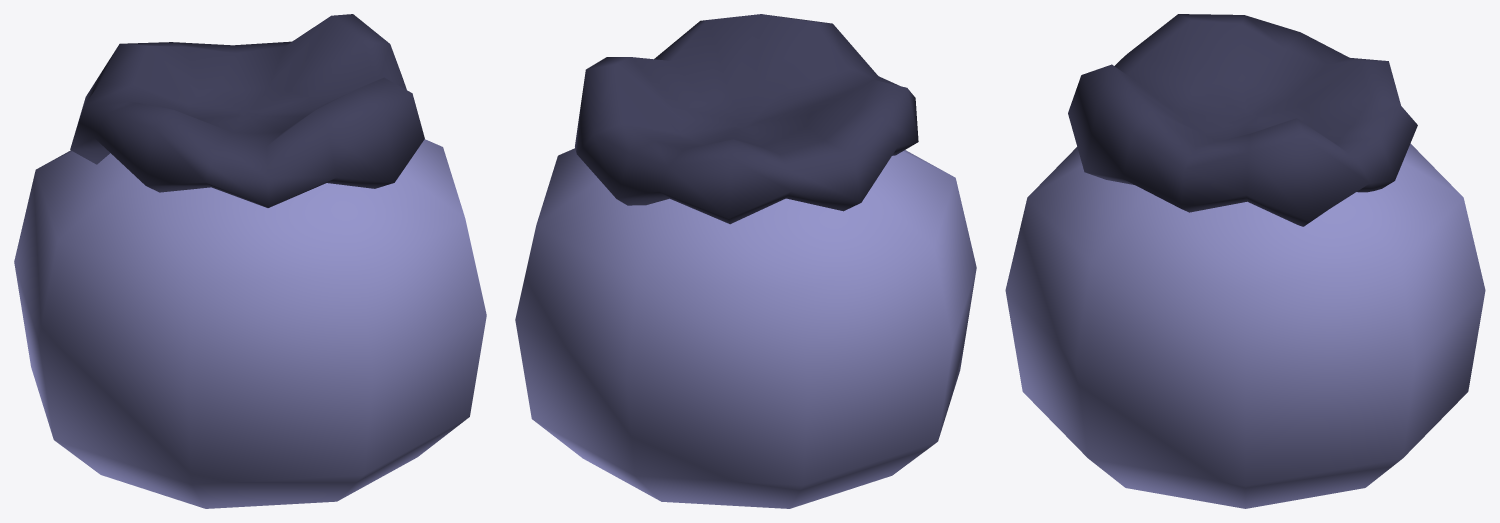
Rendered from Coral_26.fbx.
3 renders of one model, left to right at view 1: azimuth 30°, elevation 25°; view 2: azimuth 150°, elevation 25°; view 3: azimuth 270°, elevation 25°, orthographic. The views are drawn at different scales.
Parts seen in each view (by area): view 1: Coral_26; view 2: Coral_26; view 3: Coral_26.
Boxes of the visible parts, x1,y1,x2,y2 form: Coral_26: (14, 14, 486, 508); Coral_26: (515, 14, 976, 508); Coral_26: (1005, 14, 1485, 508).
Bounding box in the file's own units: 39.68 × 36.44 × 39.68.
